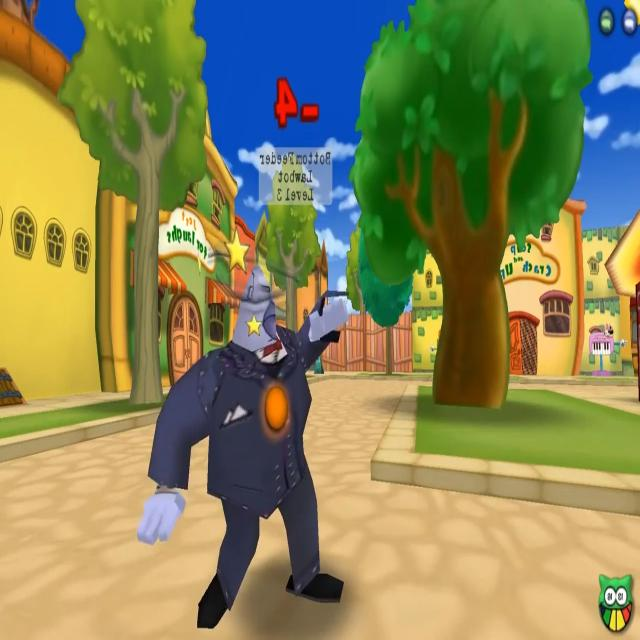bottomfeeder: (135, 146, 348, 619)
